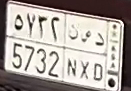2: (48, 16, 61, 78)
3: (35, 15, 49, 74)
5: (11, 14, 24, 70)
7: (23, 13, 37, 72)
D: (92, 33, 105, 82)
N: (66, 24, 79, 78)
X: (79, 30, 93, 80)
